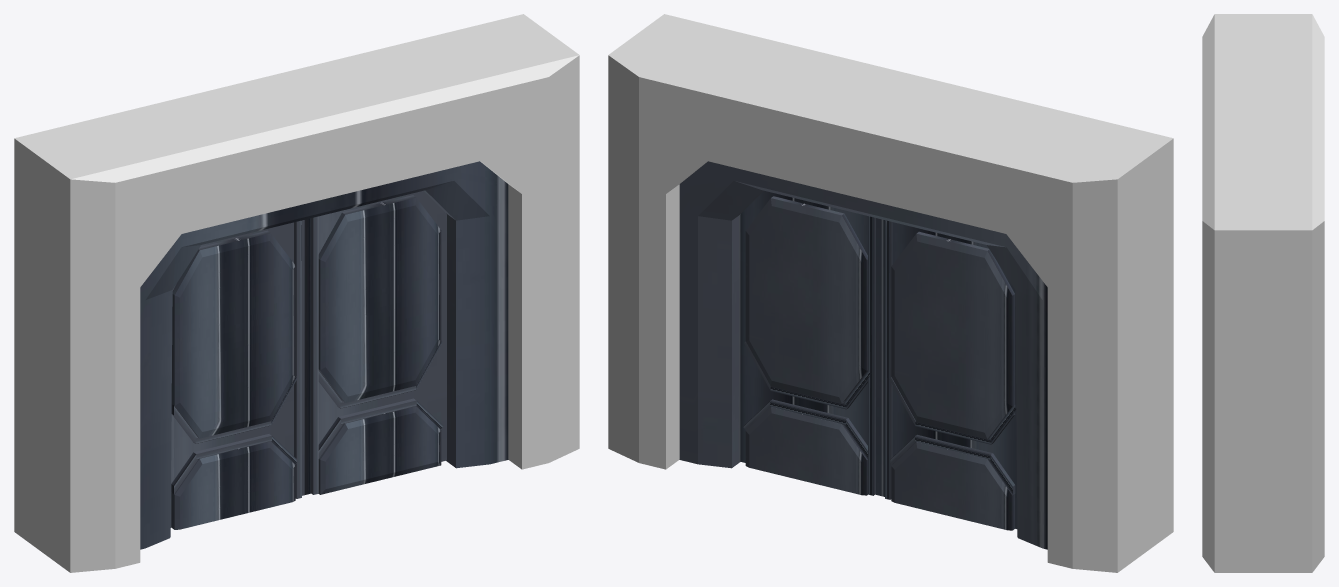
Rendered from Second Sci-fi door.fbx.
3 views of the same model, side by side, from view 1: azimuth 30°, elevation 25°; view 2: azimuth 150°, elevation 25°; view 3: azimuth 270°, elevation 25° (orthographic). The views are drawn at different scales.
Visible parts, largest first — view 1: Cube.001, Cube.024, Cube.027, Cube.029, Cube.030, Cube.028, Cube.025, Cube.008, Cube.026, Cube; view 2: Cube.001, Cube.024, Cube.029, Cube.027, Cube.030, Cube.028, Cube.025, Cube.026, Cube.008, Cube; view 3: Cube.001.
Boxes of the visible parts, x1,y1,x2,y2 form: Cube.001: (14,14,579,572); Cube.024: (140,161,508,549); Cube.027: (318,195,441,402); Cube.029: (171,230,295,438); Cube.030: (171,441,295,529); Cube.028: (318,406,441,494); Cube.025: (304,191,446,494); Cube.008: (310,216,443,494); Cube.026: (170,220,304,527); Cube: (171,220,301,498); Cube.001: (608,14,1173,572); Cube.024: (679,161,1047,549); Cube.029: (891,231,1014,439); Cube.027: (745,196,867,403); Cube.030: (891,442,1014,530); Cube.028: (745,407,867,495); Cube.025: (739,191,881,495); Cube.026: (881,219,1017,528); Cube.008: (743,216,875,495); Cube: (885,220,1016,499); Cube.001: (1202,14,1324,572).
Size of the model in its own units: 838 by 619 by 200.
1 material, 1 textured.
